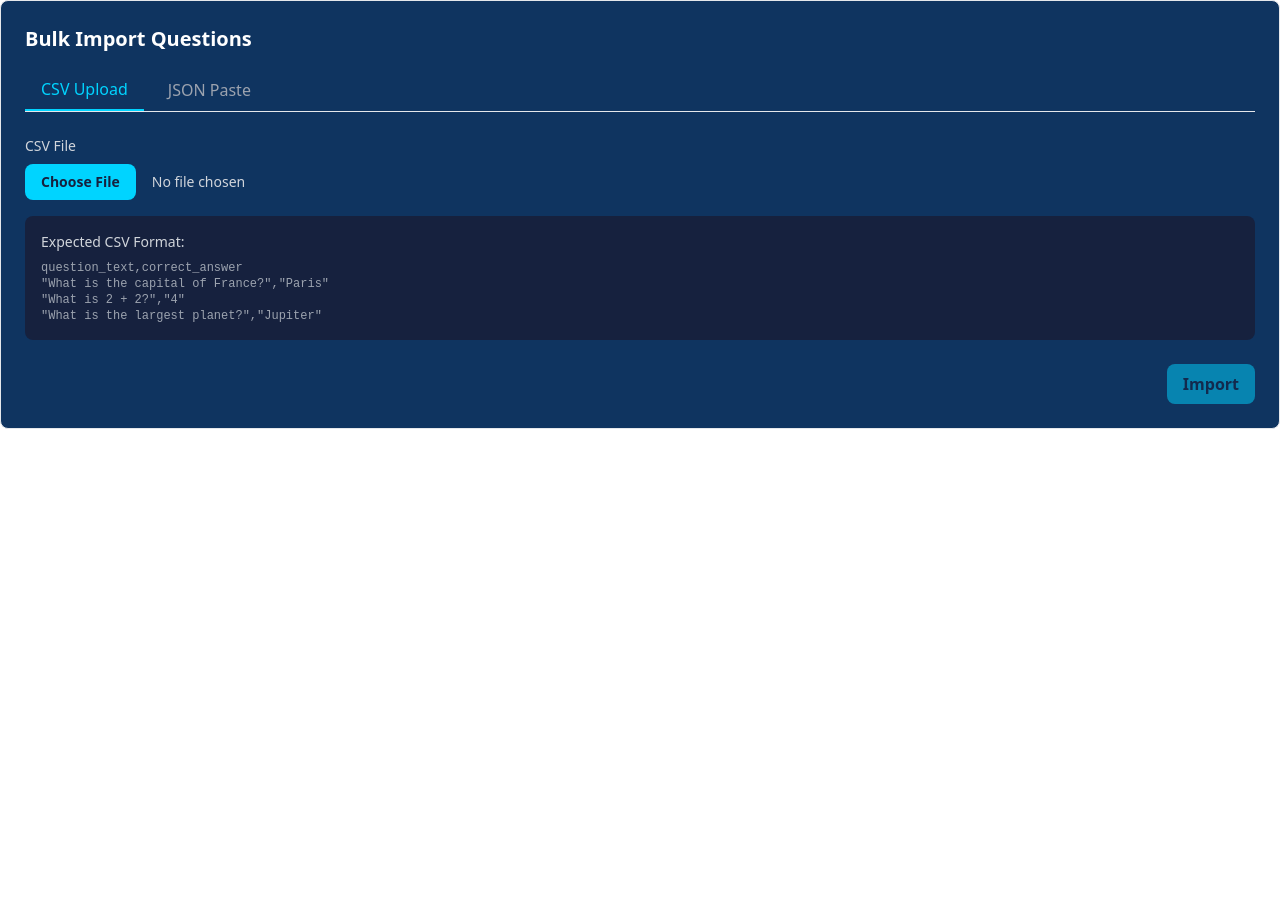
Test: BulkQuestionImport › should show error for invalid JSON
Click the button "JSON Paste" at point(209, 90), box left=152, top=69, right=267, bottom=111
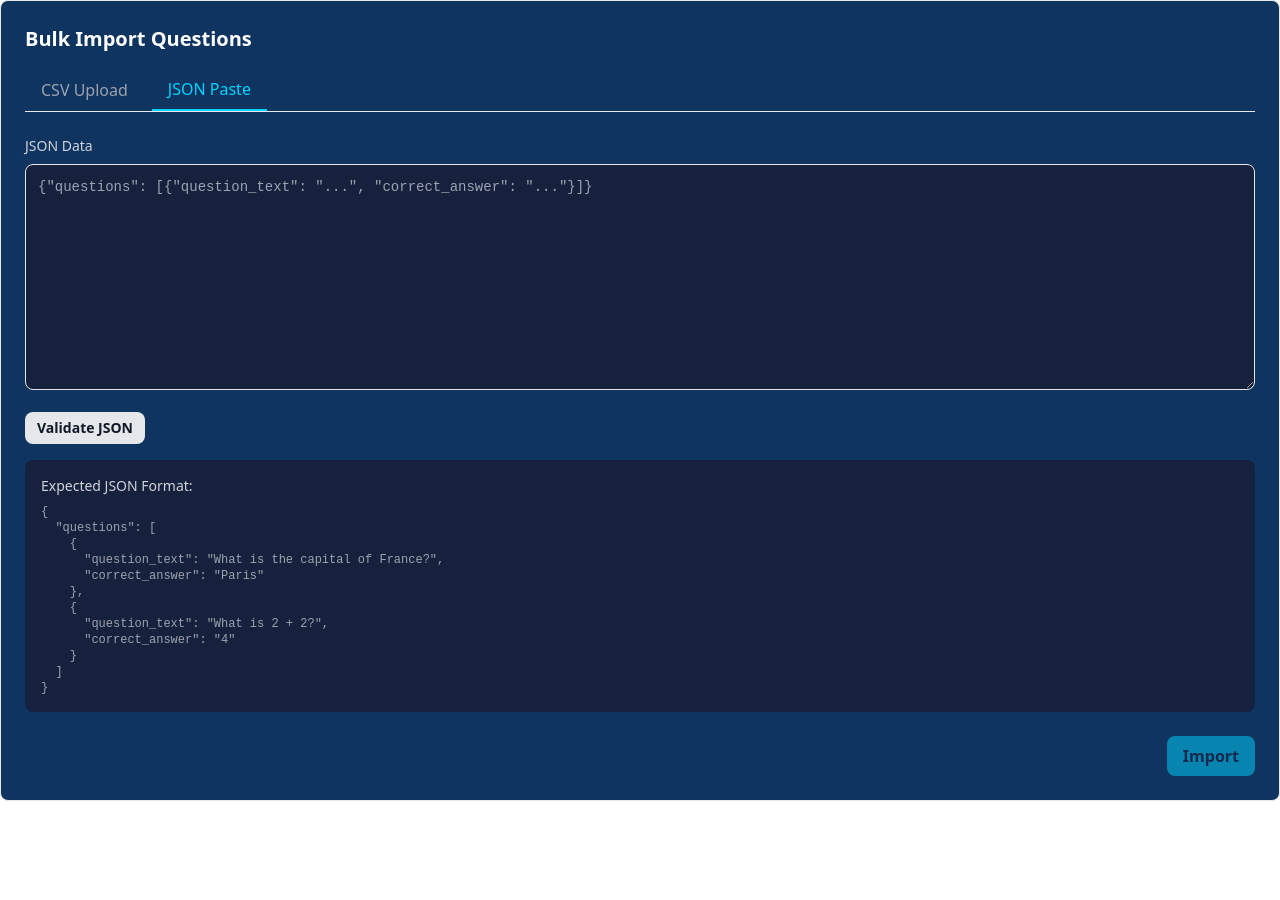
Replace the text in the text box with placeholder "questions" with "invalid json" at point(640, 277), box left=25, top=164, right=1255, bottom=390
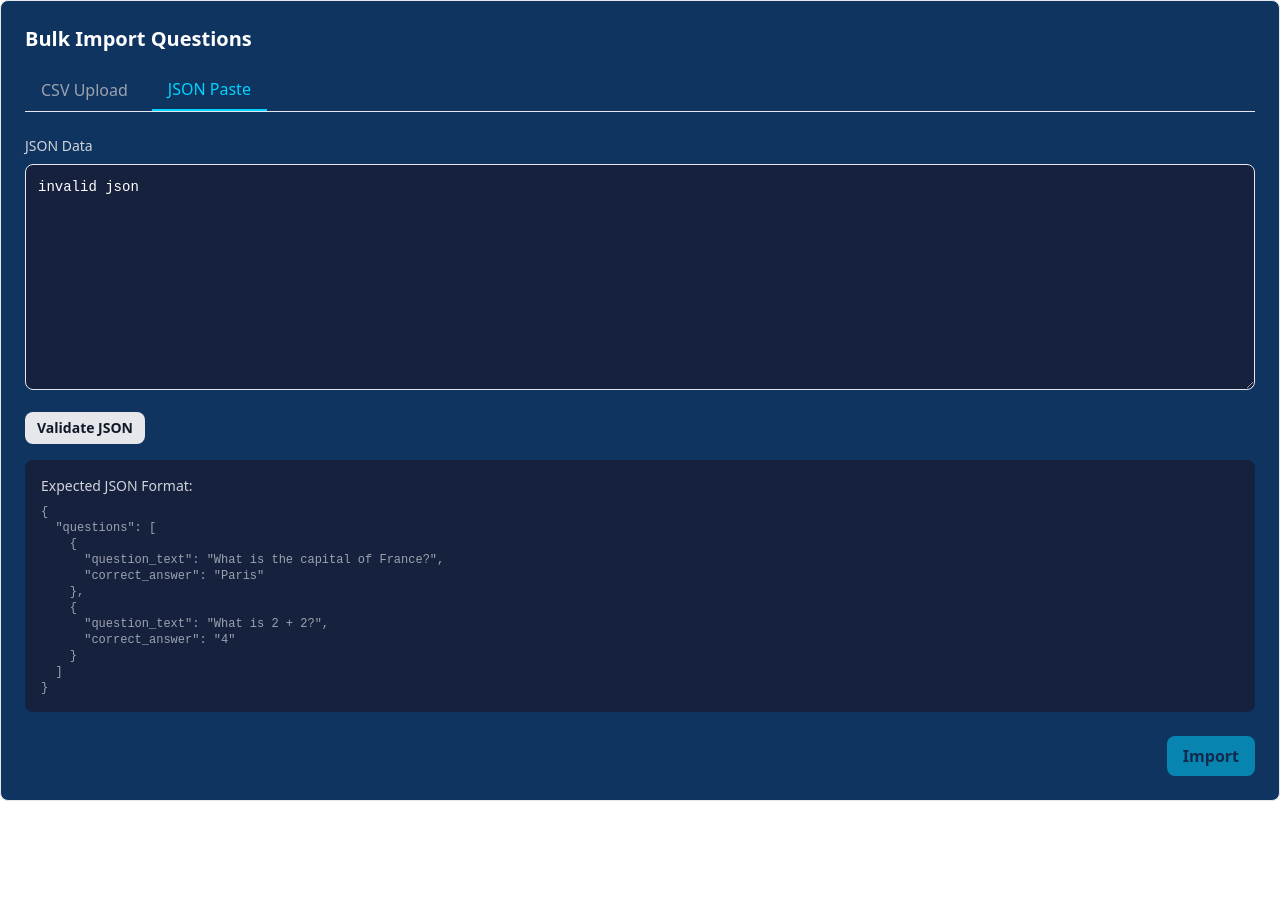
Click the button "Validate JSON" at point(85, 428), box left=25, top=412, right=145, bottom=444
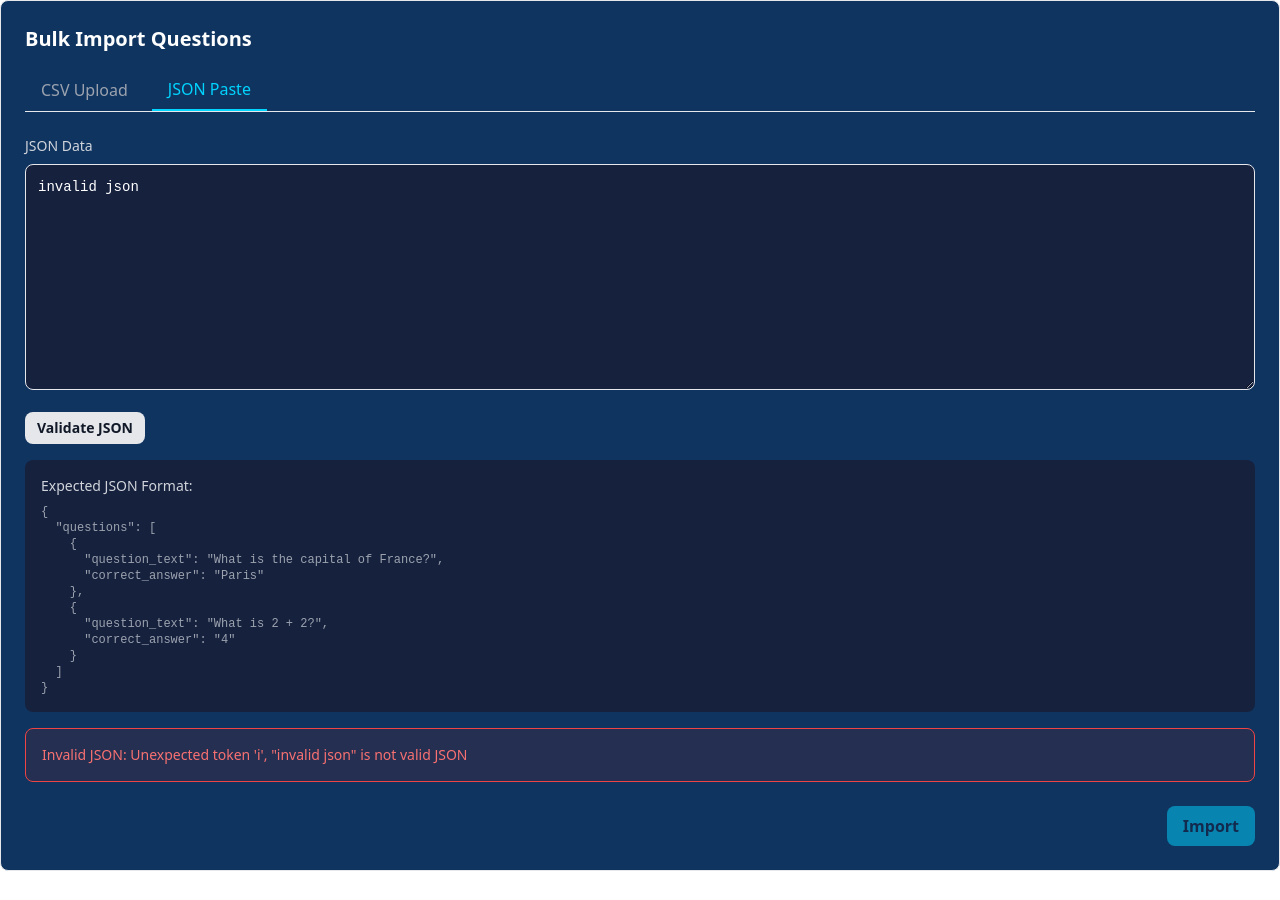
Expected: the text "Invalid JSON" is shown, left=42, top=745, right=468, bottom=764
